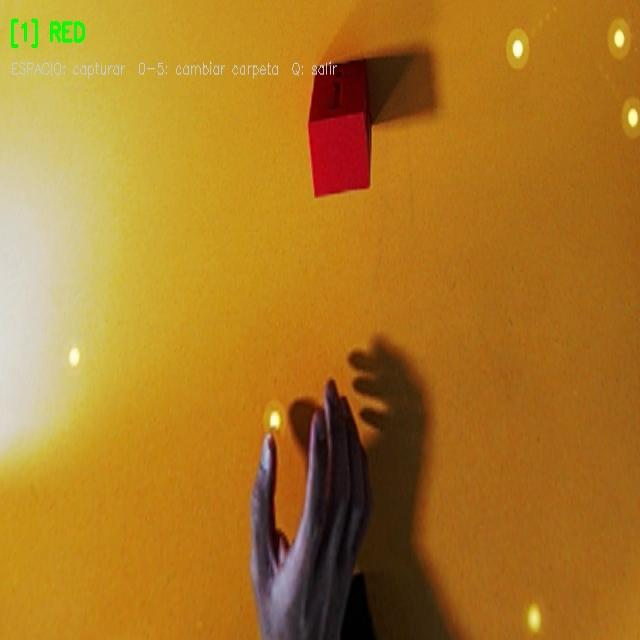red: (308, 59, 371, 196)
